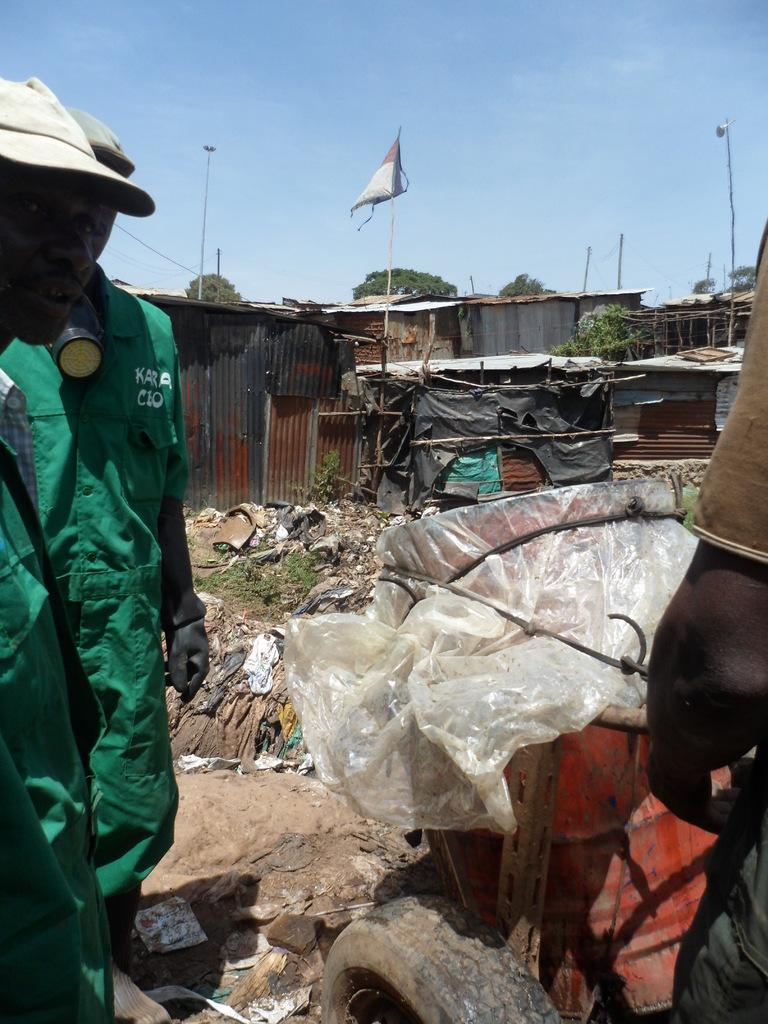Hat: (0, 74, 156, 214)
